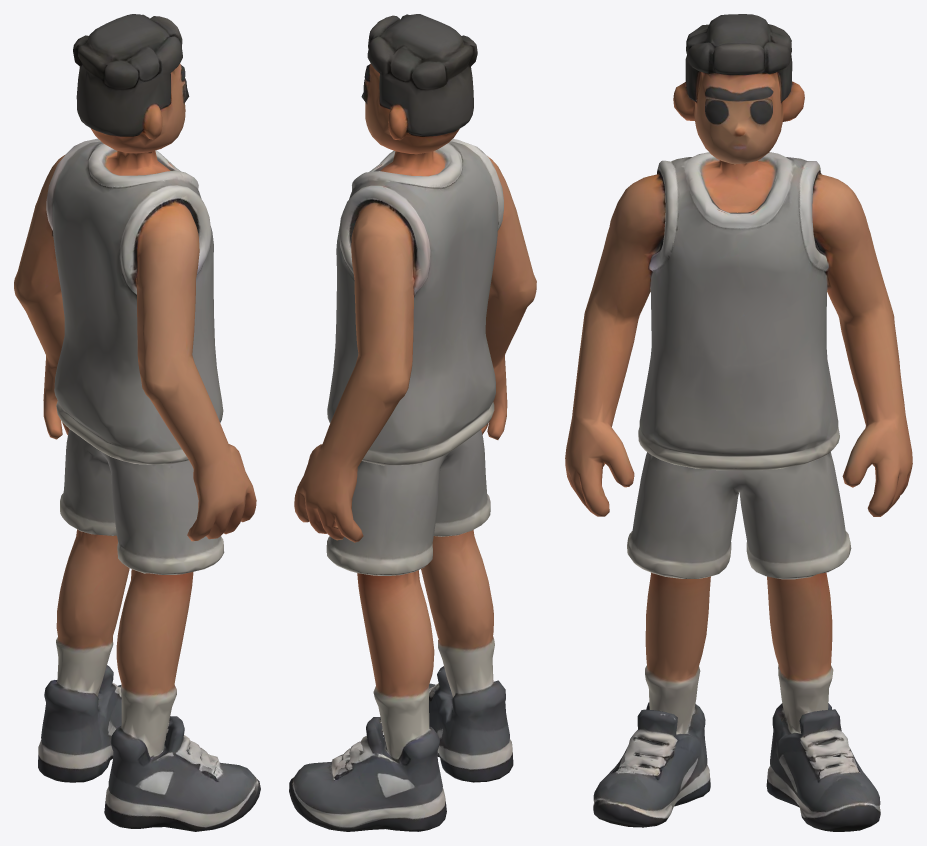
The model's file is player_a.glb.
3 renders of one model, left to right at view 1: azimuth 30°, elevation 25°; view 2: azimuth 150°, elevation 25°; view 3: azimuth 270°, elevation 25°, orthographic. The views are drawn at different scales.
Visible parts, largest first — view 1: tripo_node_8abb6c78-a714-4a16-9ea4-d4daee53d11b; view 2: tripo_node_8abb6c78-a714-4a16-9ea4-d4daee53d11b; view 3: tripo_node_8abb6c78-a714-4a16-9ea4-d4daee53d11b.
Boxes of the visible parts, x1,y1,x2,y2 form: tripo_node_8abb6c78-a714-4a16-9ea4-d4daee53d11b: (14, 14, 260, 831); tripo_node_8abb6c78-a714-4a16-9ea4-d4daee53d11b: (289, 14, 536, 831); tripo_node_8abb6c78-a714-4a16-9ea4-d4daee53d11b: (565, 14, 912, 831).
Size of the model in its own units: 0.1762 by 1 by 0.3992.
1 material, 1 textured.
